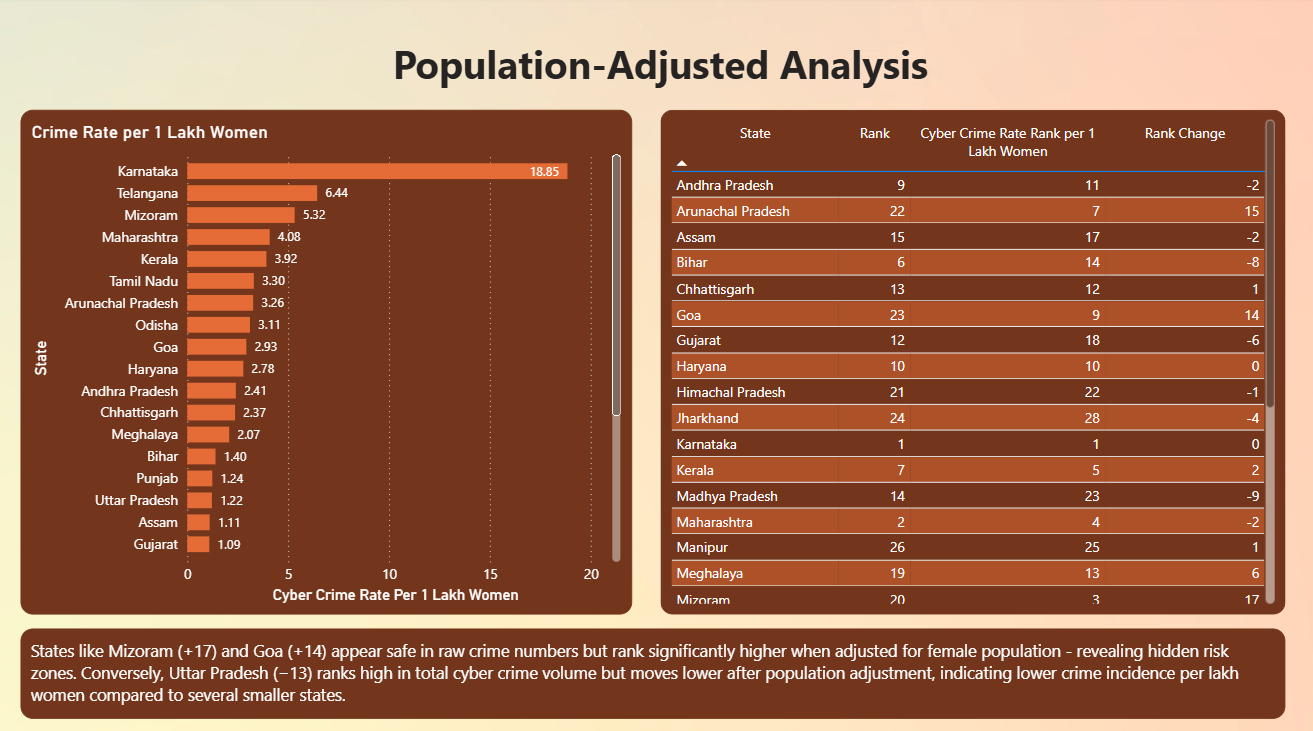

The page's visual inventory and layout, read from the dashboard file:
{"tool":"powerbi","page":{"name":"Page 2","canvas":[1280,720],"ordinal":1},"visuals":[{"type":"textbox","box":[350,40,578.8,58.8],"z":0},{"type":"barChart","title":"Crime Rate per 1 Lakh Women","fields":{"Y":["Sum(Crime Rate Per Lakh.Cyber Crime Rate per 1 Lakh Women)"],"Category":["Crime Rate Per Lakh.State"]},"box":[21.4,110,590,487.1],"z":1000},{"type":"tableEx","fields":{"Values":["Rank and Contribution.State","Rank and Contribution.Rank","Crime Rate Per Lakh.Cyber Crime Rate Rank per 1 Lakh Women","Crime Rate Per Lakh.Rank Change"]},"box":[640,110,602.9,487.1],"z":2000},{"type":"textbox","box":[21.7,610.5,1220.9,86.9],"z":3000}]}

Visuals, with their boxes in screenshot pixels (x1, y1, x2, y2), scaled from the page's 1280x720 canvas onto the 1313x731 screenshot:
textbox: crop(359, 41, 953, 100)
"Crime Rate per 1 Lakh Women" barChart: crop(22, 112, 627, 606)
tableEx - Rank and Contribution.State x Rank and Contribution.Rank: crop(656, 112, 1275, 606)
textbox: crop(22, 620, 1275, 708)
